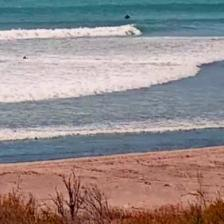surfer: (124, 14, 131, 20), (22, 55, 28, 60)
